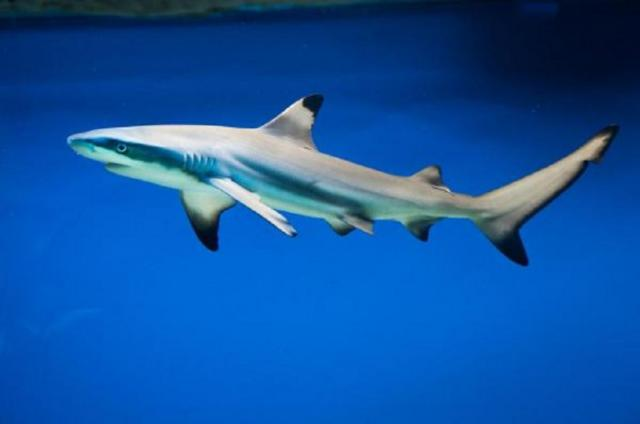Mulut: (68, 134, 152, 192)
Sirip Anal: (391, 153, 453, 252)
Sirip Dada: (162, 166, 310, 266)
Sirip Ekor: (470, 112, 634, 284)
Sirip Perut: (320, 202, 380, 252)
Sirip Punggung: (248, 84, 332, 160)
